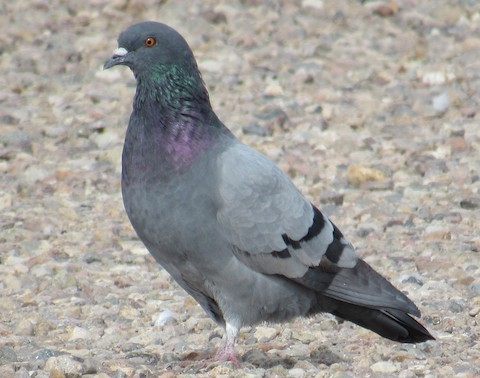pigeon: (101, 18, 439, 364)
